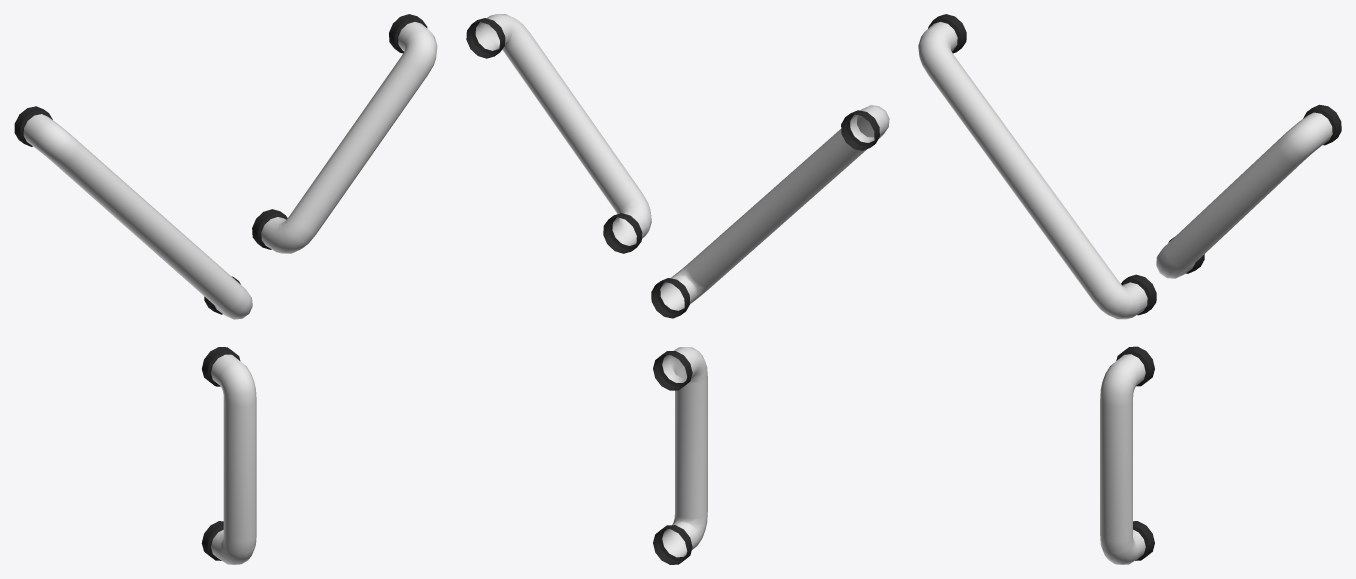
The model's file is LettersNeon01_Y.FBX.
3 views of the same model, side by side, from view 1: azimuth 30°, elevation 25°; view 2: azimuth 150°, elevation 25°; view 3: azimuth 330°, elevation 25° (orthographic).
Parts seen in each view (by area): view 1: LettersNeon01_Y; view 2: LettersNeon01_Y; view 3: LettersNeon01_Y.
Boxes of the visible parts, x1,y1,x2,y2 form: LettersNeon01_Y: (14, 14, 437, 564); LettersNeon01_Y: (466, 14, 889, 564); LettersNeon01_Y: (918, 14, 1341, 564).
Size of what is drawn, in the model's own units: 0.4309 by 0.5011 by 0.054.
